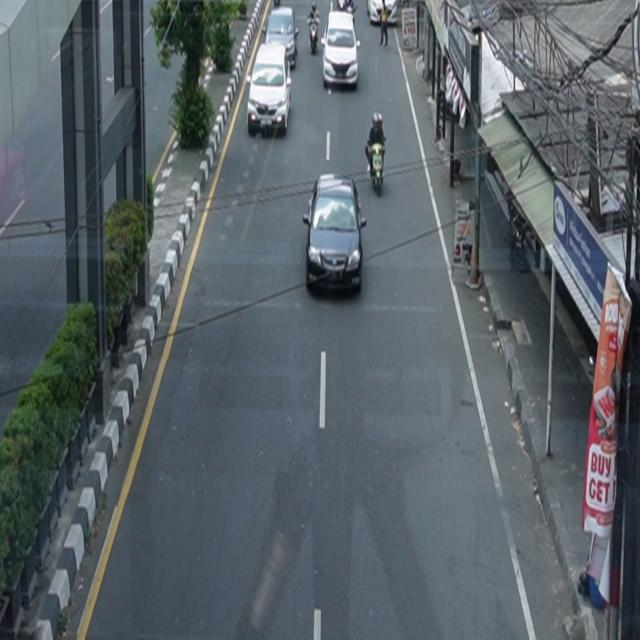car: (303, 174, 368, 296), (248, 42, 293, 138), (322, 11, 361, 90), (266, 6, 300, 70)
